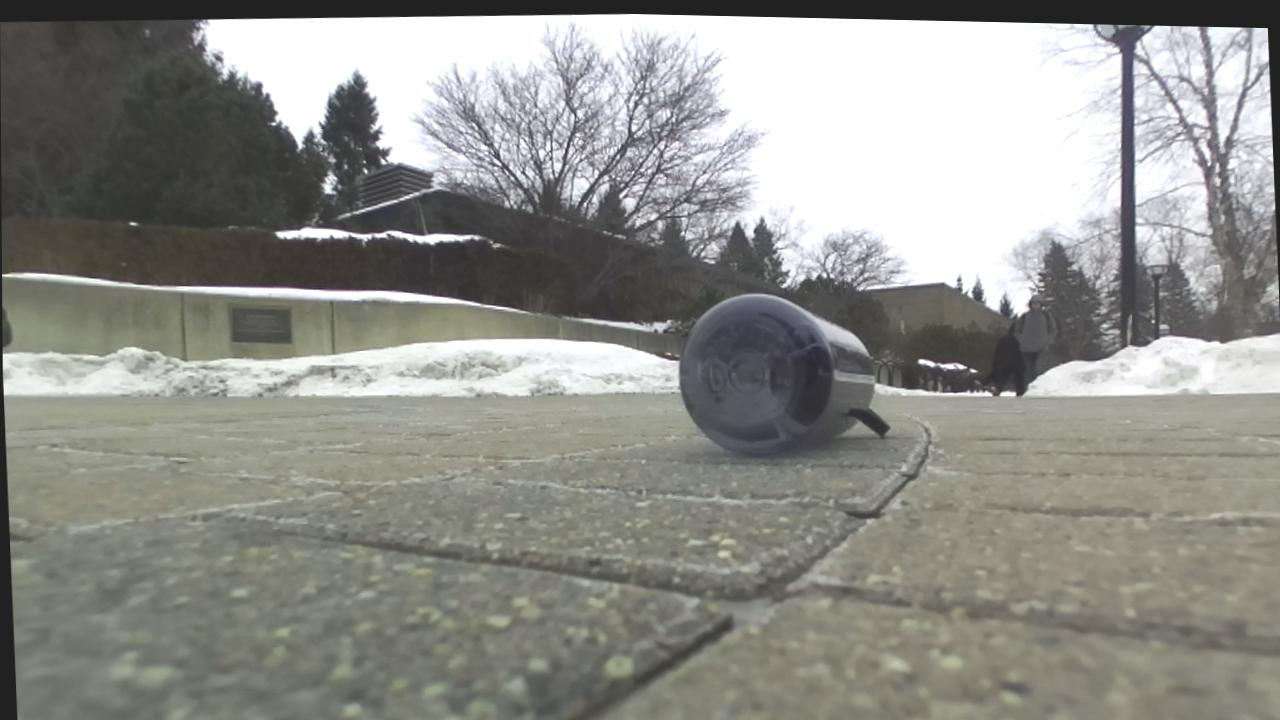bottle: (679, 295, 889, 455)
